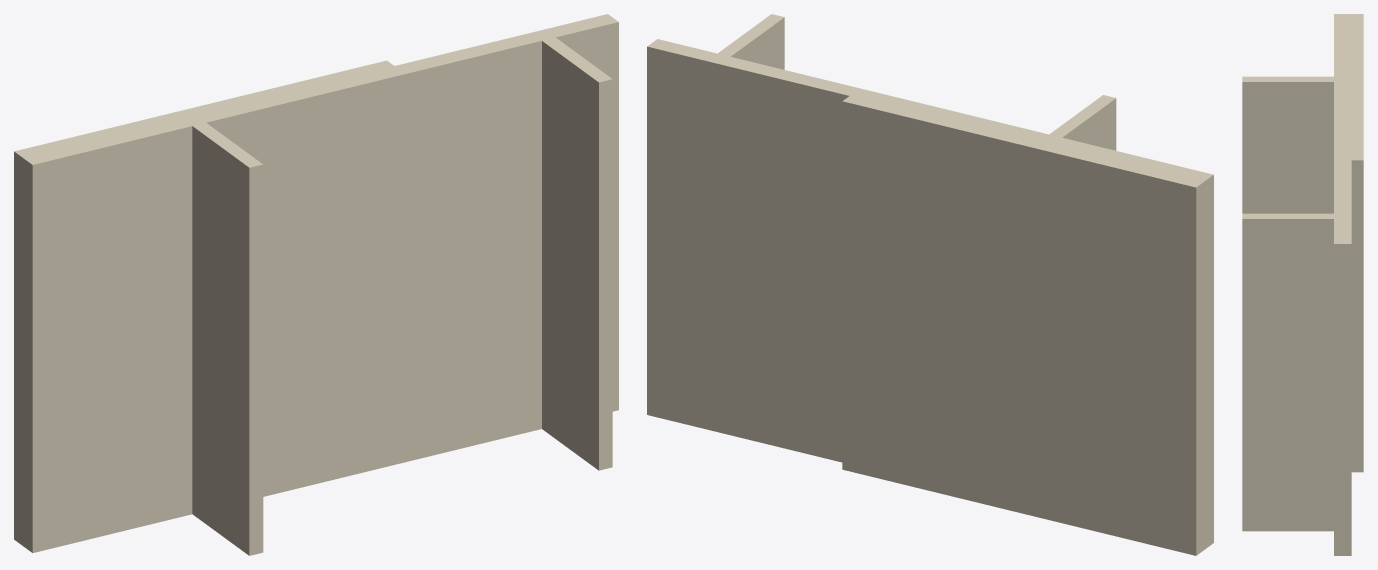
3 views of the same model, side by side, from view 1: azimuth 30°, elevation 25°; view 2: azimuth 150°, elevation 25°; view 3: azimuth 270°, elevation 25° (orthographic). The views are drawn at different scales.
Parts seen in each view (by area): view 1: A-FF-WALL-016; view 2: A-FF-WALL-016; view 3: A-FF-WALL-016.
Part boxes in pixels (x1,y1,x2,y2): A-FF-WALL-016: (14, 14, 618, 555); A-FF-WALL-016: (647, 14, 1213, 555); A-FF-WALL-016: (1242, 14, 1363, 555).
Bounding box in the file's own units: 3.82 × 2.42 × 0.854.
